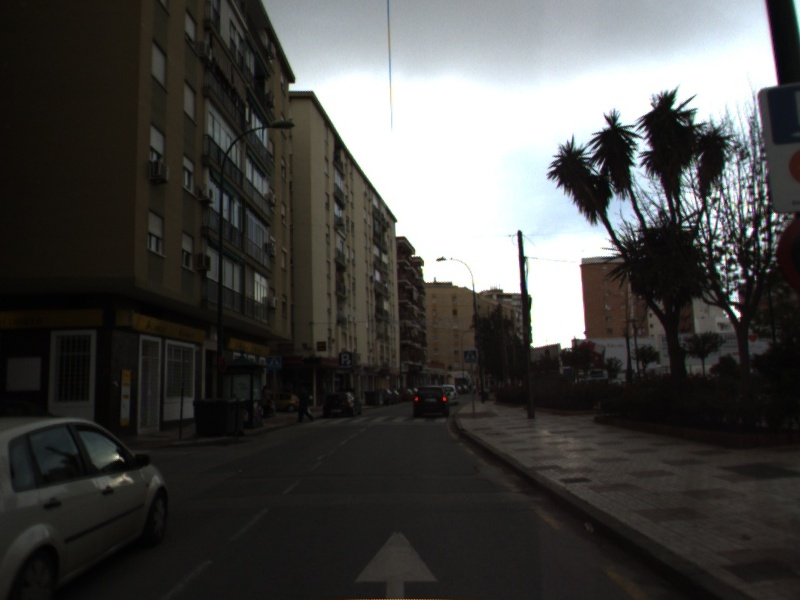STRAIGHT: (352, 526, 441, 600)
